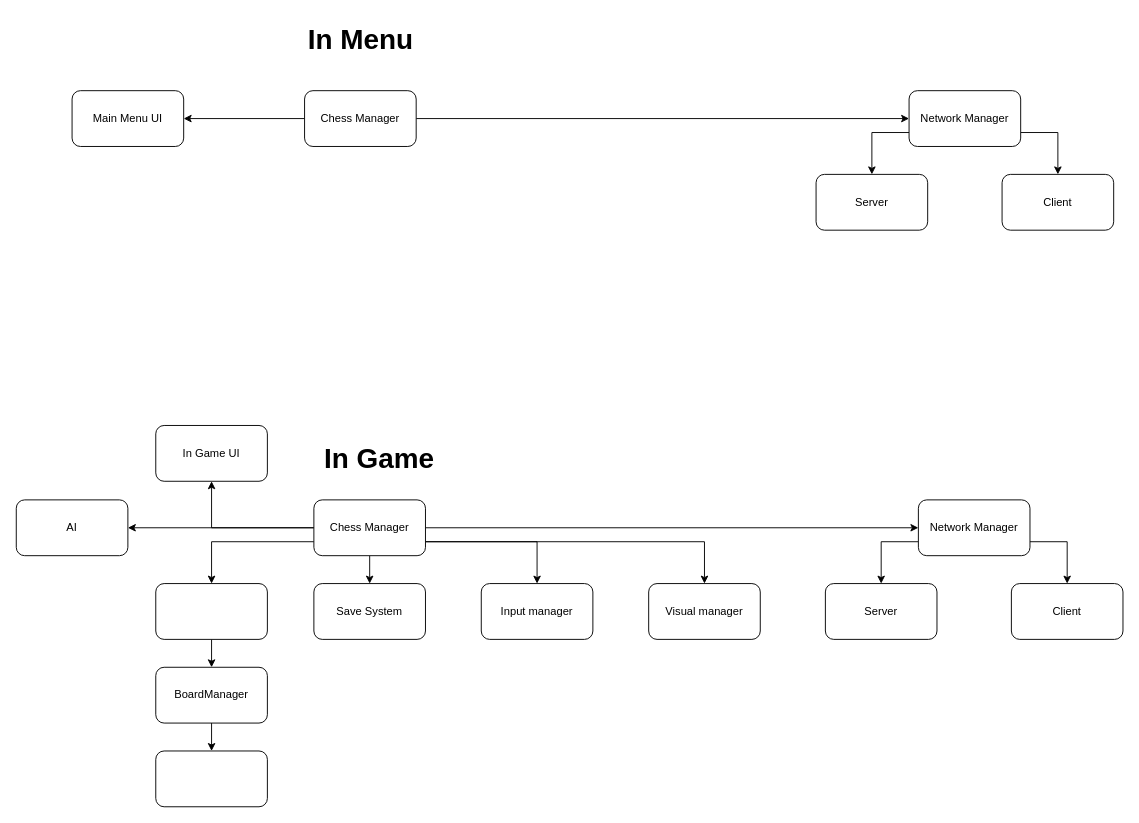
Image size: 1139x823. Some labels were removed from this diagram. The shapes that lost their labels are listed below. From the top down, each one's centre as x and y in pixels, then its label:
At point 211,611: "GameManager".
At point 211,778: "Pieces".
